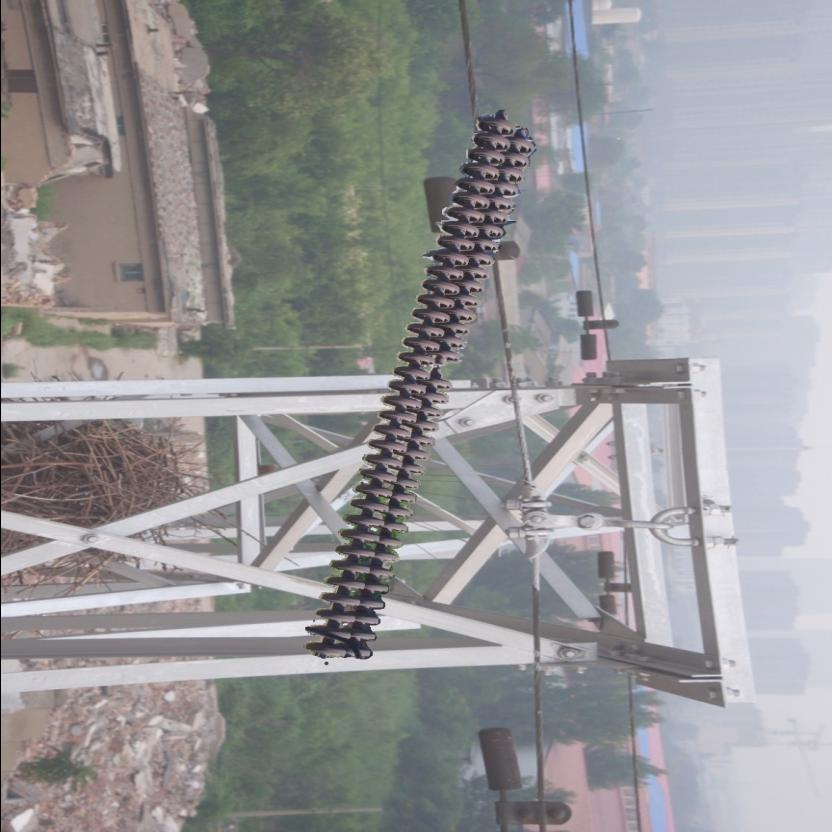defect: (424, 346, 464, 394)
